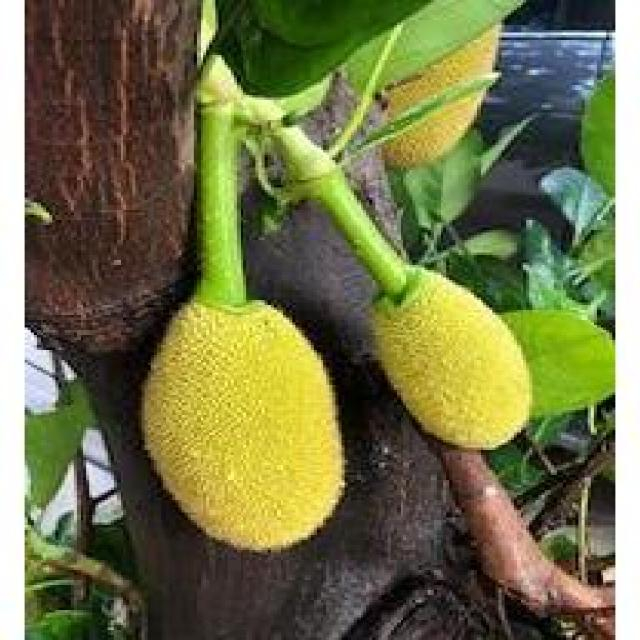Fruit: (120, 282, 375, 578), (351, 260, 554, 472)
